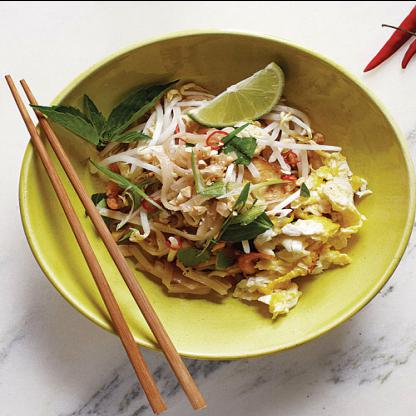Pad Thai: (73, 52, 376, 335)
